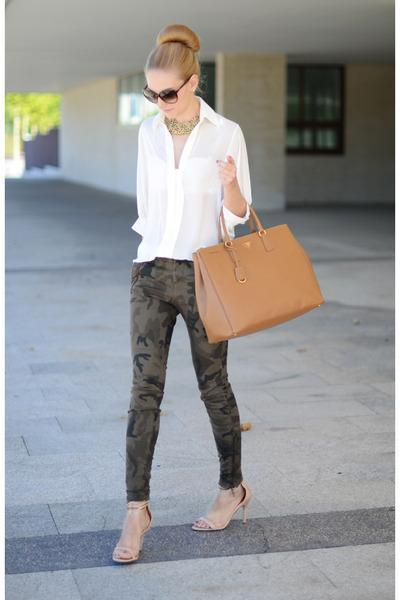bag: (188, 220, 323, 342)
pants: (126, 257, 248, 501)
shirt: (132, 98, 251, 264)
shoe: (205, 504, 234, 529)
sunglass: (156, 75, 191, 102)
